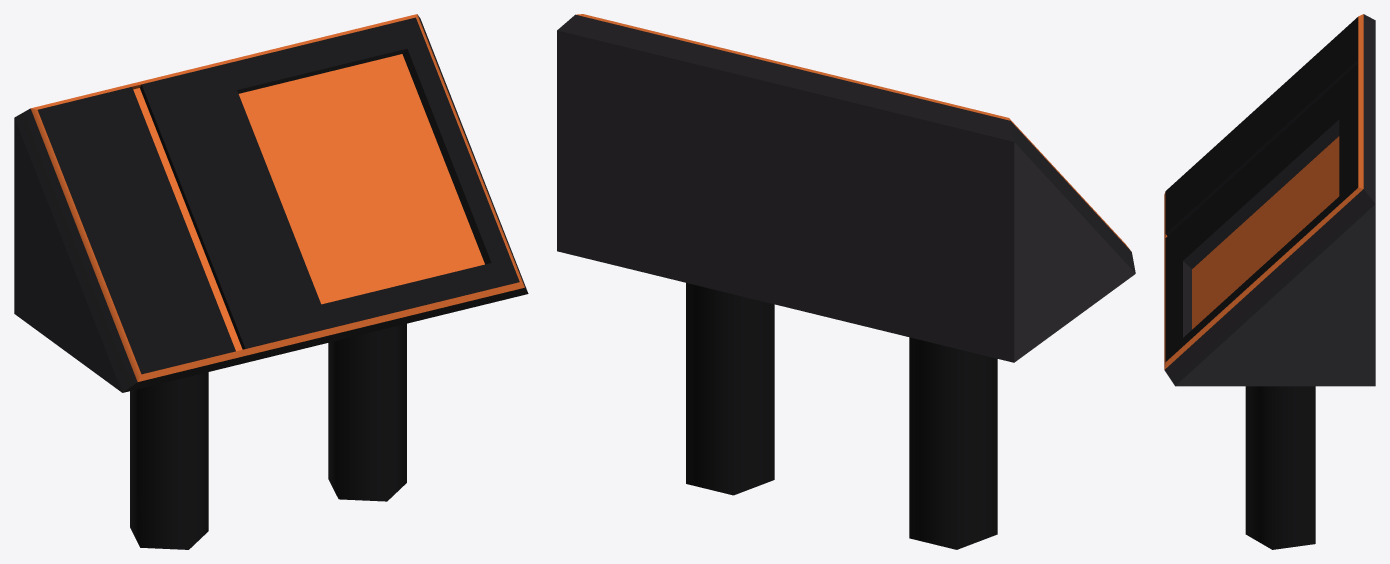
Rendered from Door_Panel2_Swipe.fbx.
3 renders of one model, left to right at view 1: azimuth 30°, elevation 25°; view 2: azimuth 150°, elevation 25°; view 3: azimuth 270°, elevation 25°, orthographic. The views are drawn at different scales.
Parts seen in each view (by area): view 1: Door_Panel2_Swipe; view 2: Door_Panel2_Swipe; view 3: Door_Panel2_Swipe.
Part boxes in pixels (<box>): Door_Panel2_Swipe: <box>14,14,528,549</box>; Door_Panel2_Swipe: <box>557,14,1135,549</box>; Door_Panel2_Swipe: <box>1164,14,1375,549</box>.
Size of the model in its own units: 144 by 141 by 69.83.
